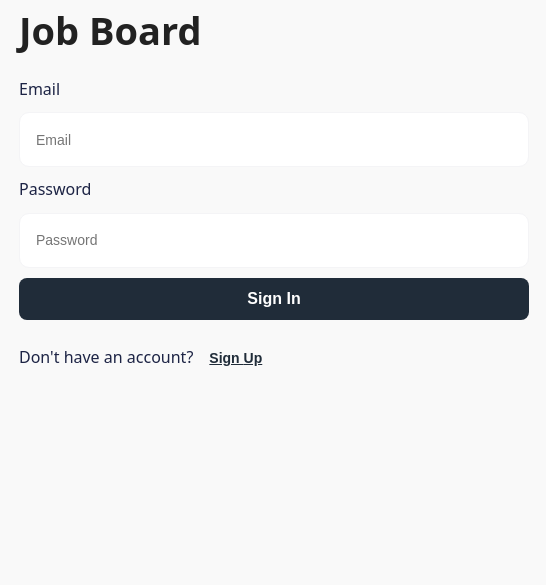
Login Page › should render sign up inputs on sign up button click
The image size is (546, 585).
Click the button "Sign Up". click: (236, 358)
box: 197,340 -> 274,376
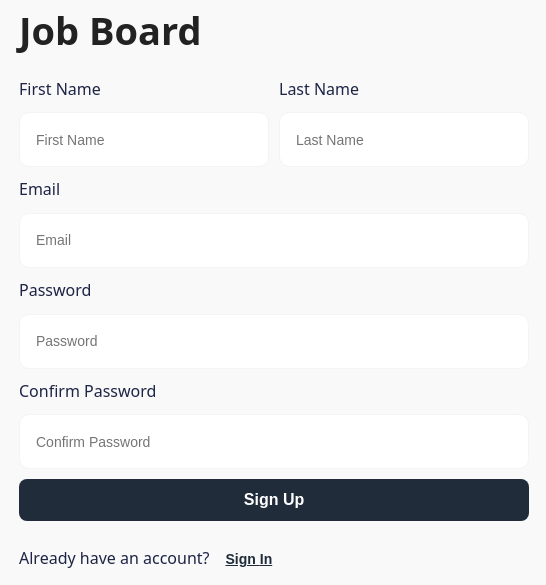
Expected: the field with placeholder "First Name" is shown, 19,112 -> 269,167
Expected: the field with placeholder "Last Name" is shown, 279,112 -> 529,167
Expected: the password field with placeholder "Confirm Password" is shown, 19,414 -> 529,469
